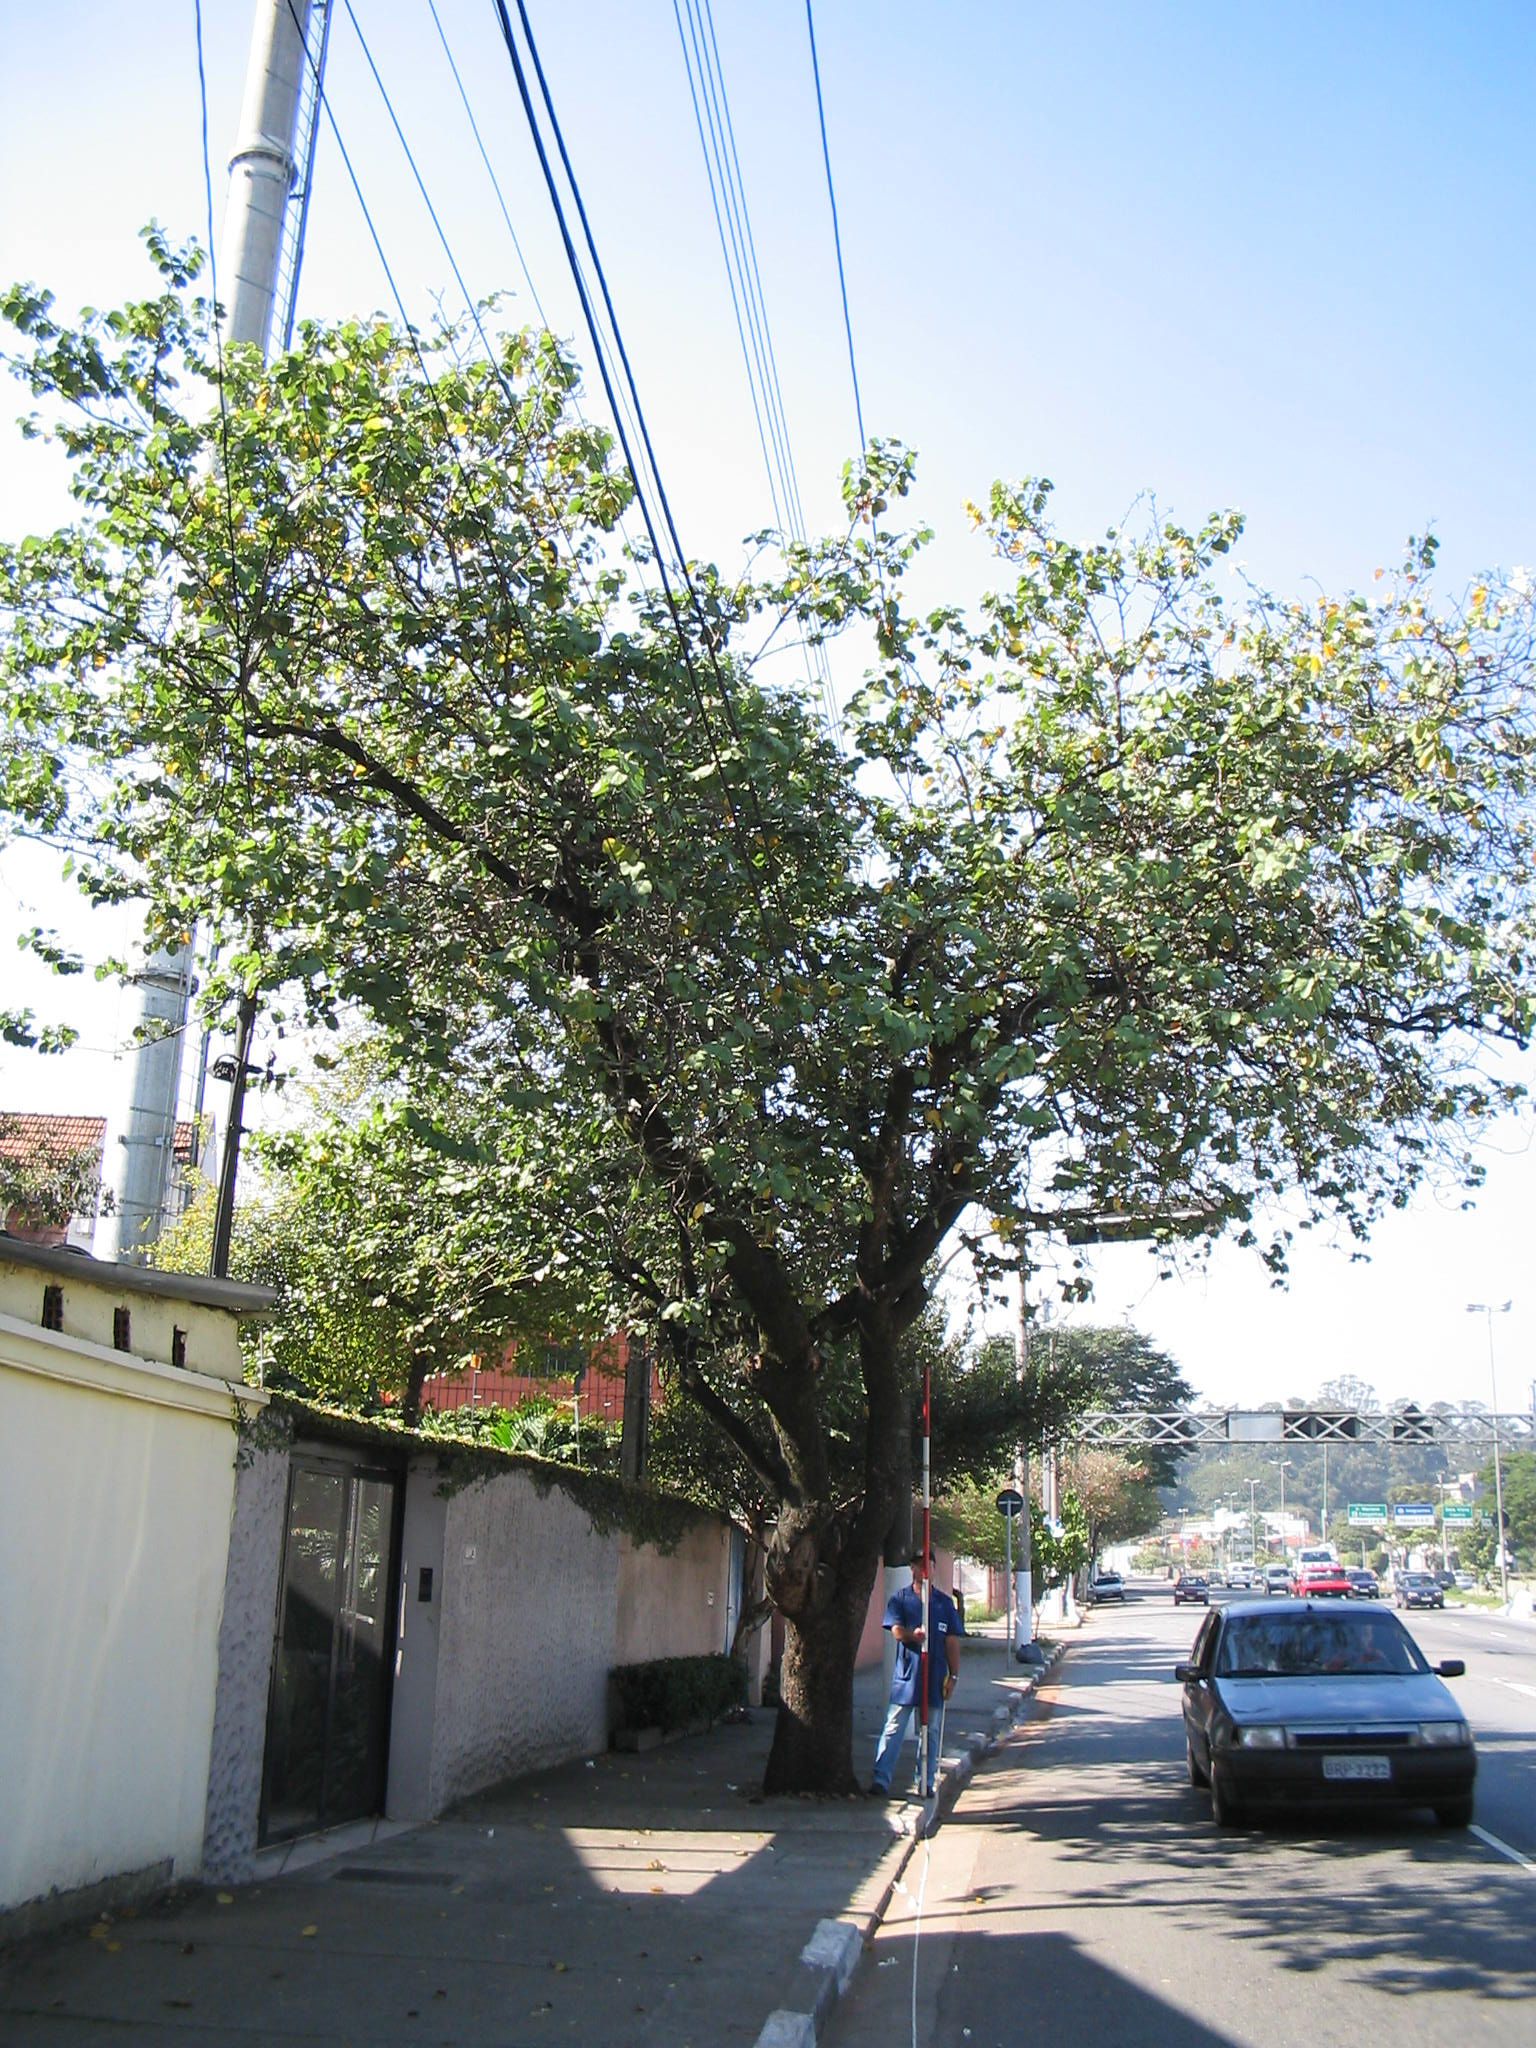crown: (15, 224, 1523, 1466)
stem: (712, 1521, 910, 1800)
stick: (904, 1363, 944, 1800)
tree: (6, 216, 1533, 1800)
